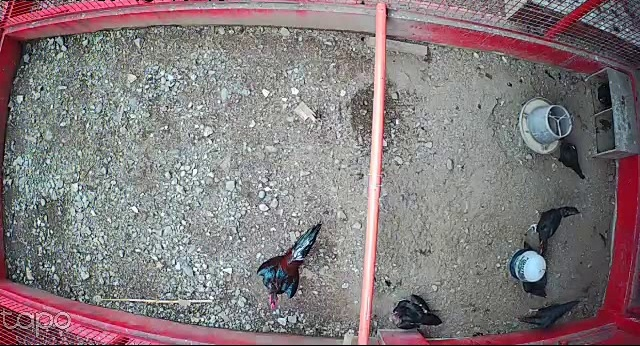Chicken: (523, 202, 581, 255), (518, 295, 582, 332), (388, 292, 443, 331), (549, 134, 587, 183), (520, 267, 549, 301)
Drinker: (507, 249, 548, 284)
Feeder: (519, 93, 572, 156)
Rooster: (256, 221, 324, 309)
